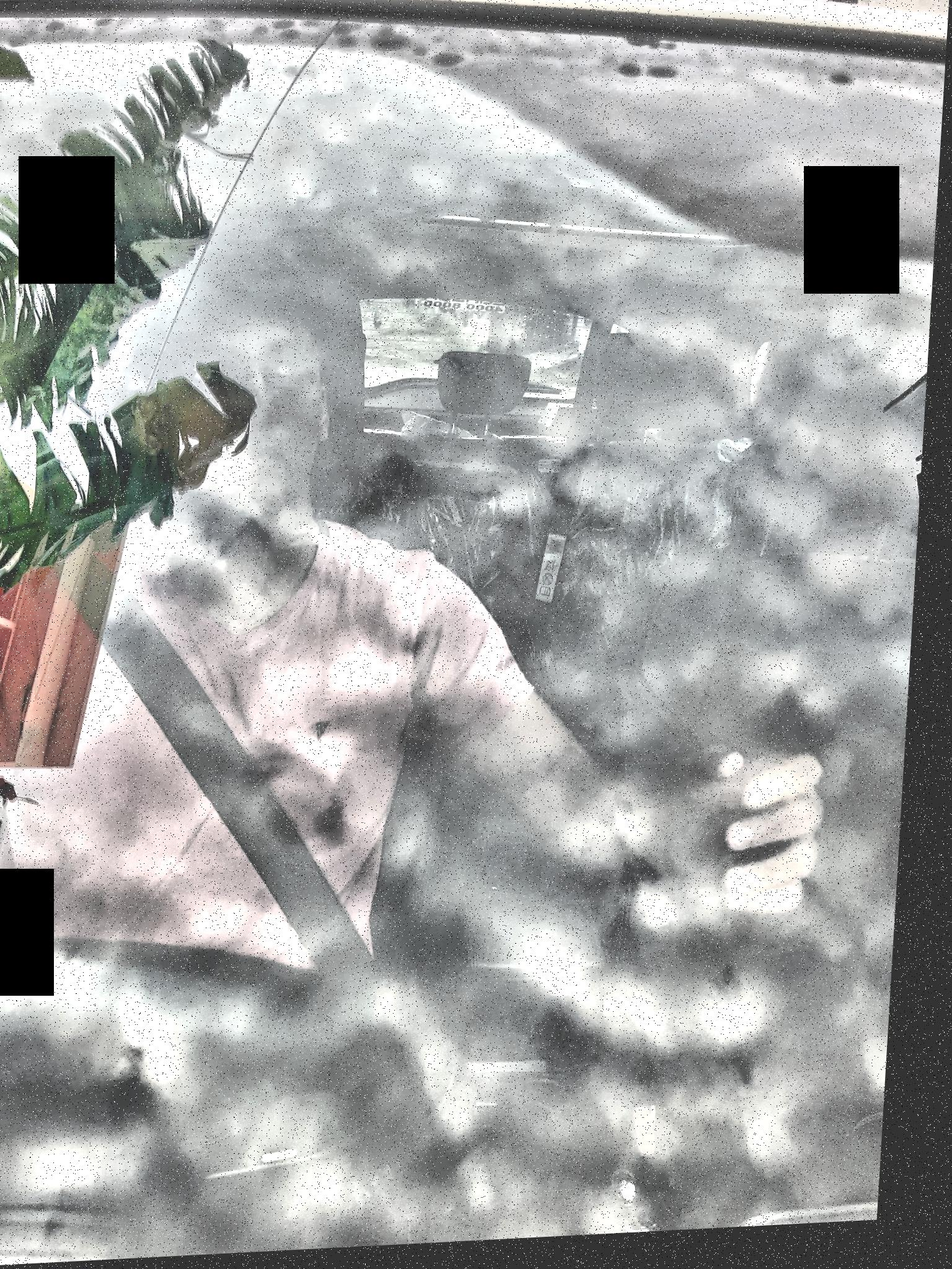seatbelt: (0, 414, 578, 1268)
